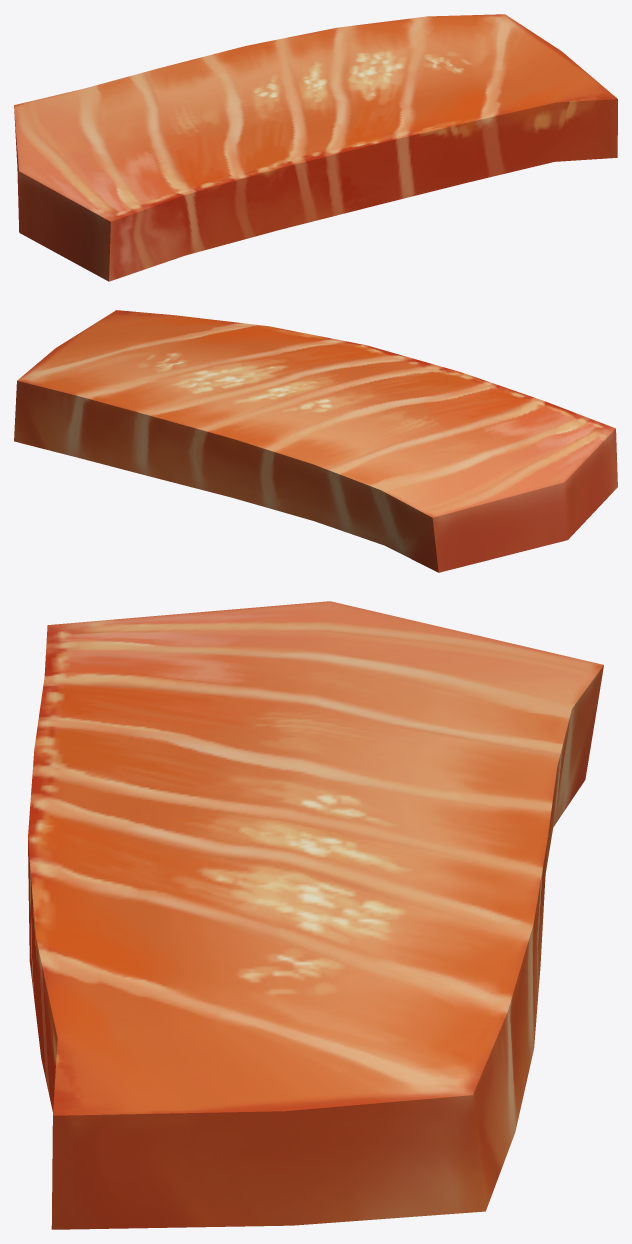
File: SushisSalmonFlat.fbx
The picture shows the model from 3 angles, top to bottom: view 1: azimuth 30°, elevation 25°; view 2: azimuth 150°, elevation 25°; view 3: azimuth 270°, elevation 25°; orthographic projection. The views are drawn at different scales.
Visible parts, largest first — view 1: SushisSalmonFlat; view 2: SushisSalmonFlat; view 3: SushisSalmonFlat.
Part boxes in pixels (x1=…): SushisSalmonFlat: x1=14, y1=14, x2=617, y2=281; SushisSalmonFlat: x1=14, y1=310, x2=617, y2=572; SushisSalmonFlat: x1=28, y1=601, x2=603, y2=1229.
Bounding box in the file's own units: 32.34 × 4.8 × 15.46.
